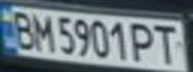0: (90, 17, 112, 60)
1: (109, 18, 130, 61)
5: (51, 13, 75, 55)
9: (69, 16, 93, 57)
B: (6, 8, 39, 51)
M: (27, 11, 57, 52)
P: (127, 19, 160, 63)
T: (151, 21, 184, 65)
